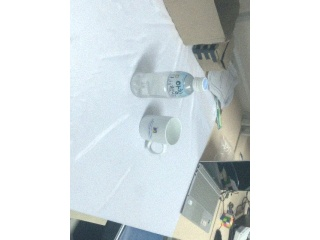bottle: (130, 71, 208, 99)
box: (160, 1, 239, 45), (191, 41, 237, 74)
cup: (139, 114, 182, 154)
